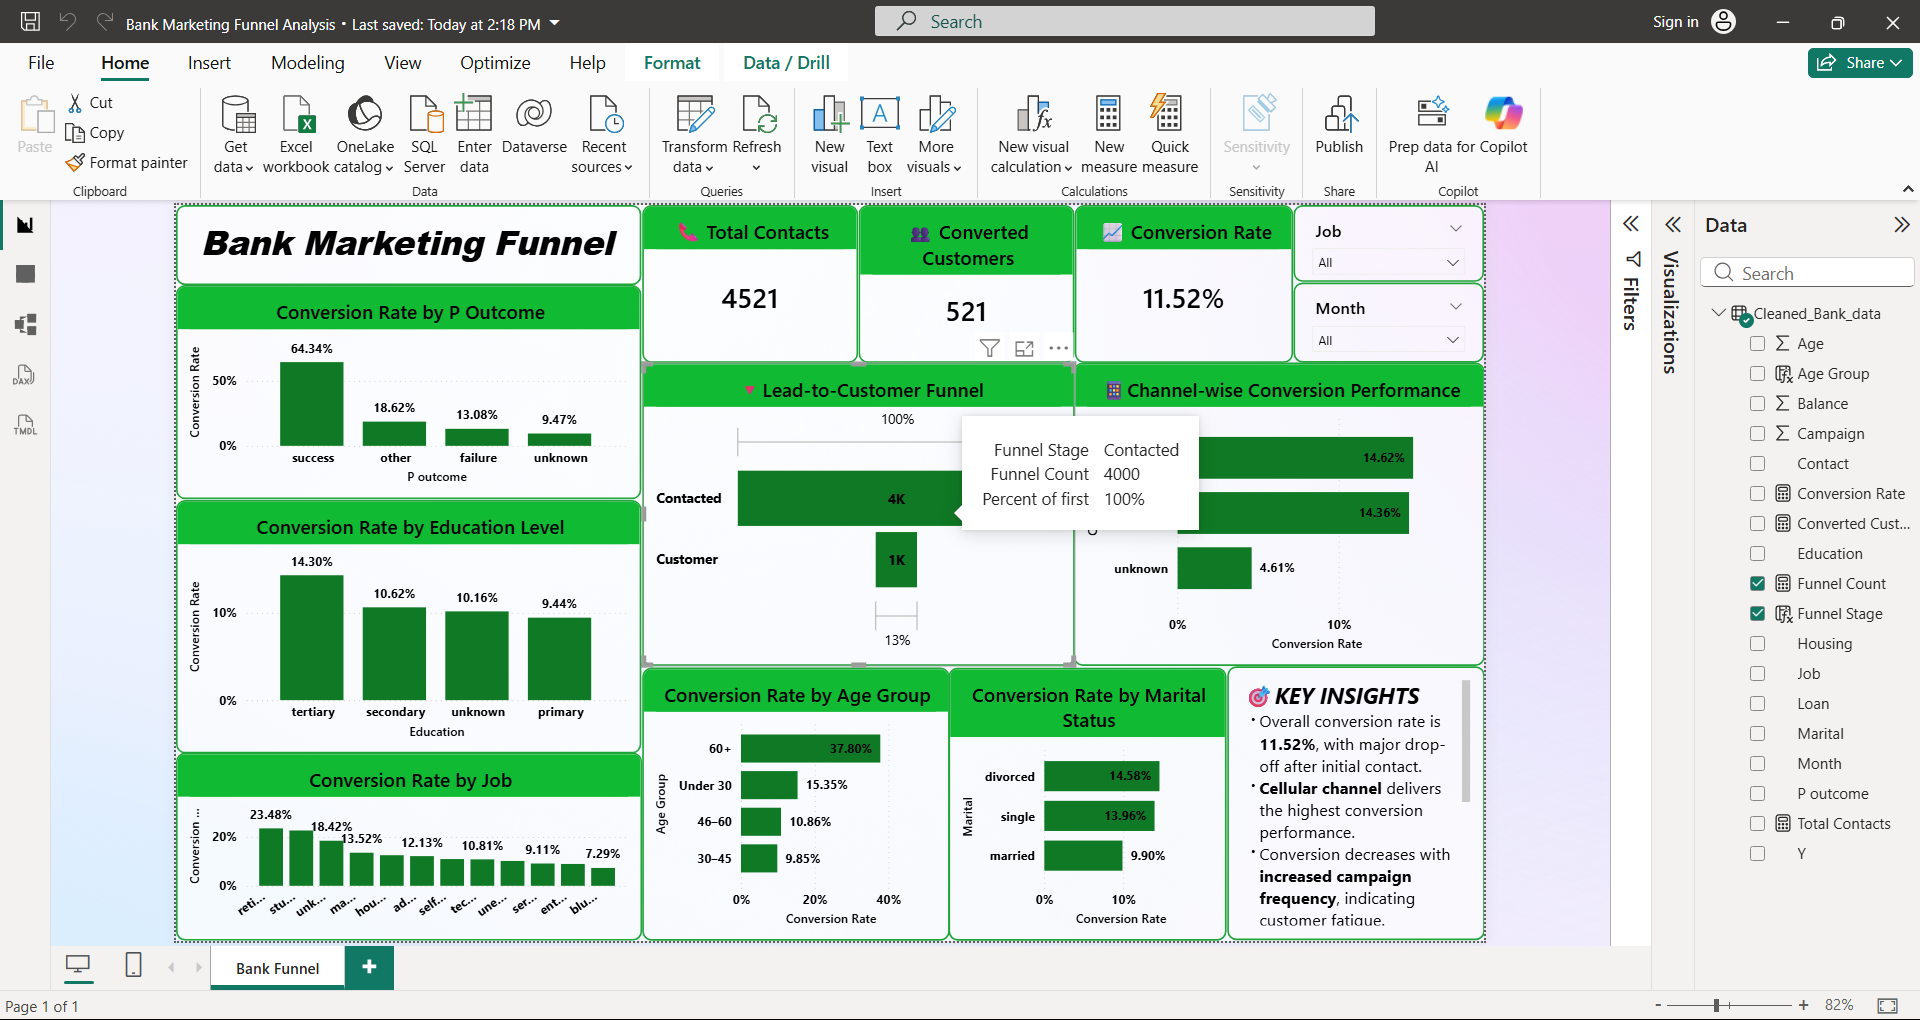

The page's visual inventory and layout, read from the dashboard file:
{"tool":"powerbi","page":{"name":"Page 1","canvas":[1280,720],"ordinal":0},"visuals":[{"type":"card","title":"Total Contacts","fields":{"Values":["Cleaned_Bank_data.Total Contacts"]},"box":[455.6,0,211.3,153.7],"z":0},{"type":"card","title":"Converted Customers","fields":{"Values":["Cleaned_Bank_data.Total Customers"]},"box":[666.9,0,219.6,153.7],"z":1000},{"type":"card","title":"Conversion Rate","fields":{"Values":["Cleaned_Bank_data.Conversion Rate"]},"box":[886.6,0,210.3,154.1],"z":2000},{"type":"funnel","title":"Lead-to-Customer Funnel","fields":{"Y":["Cleaned_Bank_data.Funnel Count"],"Category":["Cleaned_Bank_data.Funnel Stage"]},"box":[455.6,153.7,413,299.1],"z":3000},{"type":"clusteredBarChart","title":"Channel-wise Conversion Performance","fields":{"Category":["Cleaned_Bank_data.Contact"],"Y":["Cleaned_Bank_data.Conversion Rate"]},"box":[868.6,153.7,411.7,299.1],"z":4000},{"type":"slicer","fields":{"Values":["Cleaned_Bank_data.Month"]},"box":[1093.7,75.5,186.6,78.2],"z":5000},{"type":"slicer","fields":{"Values":["Cleaned_Bank_data.Job"]},"box":[1093.7,0,186.6,75.5],"z":6000},{"type":"clusteredBarChart","title":"Conversion Rate by Marital Status","fields":{"Category":["Cleaned_Bank_data.Marital"],"Y":["Cleaned_Bank_data.Conversion Rate"]},"box":[756.1,452.8,271.7,267.6],"z":7000},{"type":"clusteredColumnChart","title":"Conversion Rate by Education Level","fields":{"Category":["Cleaned_Bank_data.Education"],"Y":["Cleaned_Bank_data.Conversion Rate"]},"box":[0,288.2,455.6,248.4],"z":8000},{"type":"clusteredBarChart","fields":{"Category":["Cleaned_Bank_data.Age Group"],"Y":["Cleaned_Bank_data.Conversion Rate"]},"box":[455.6,452.8,300.5,267.6],"z":9000},{"type":"clusteredColumnChart","title":"Conversion Rate by P Outcome","fields":{"Y":["Cleaned_Bank_data.Conversion Rate"],"Category":["Cleaned_Bank_data.P out Come"]},"box":[0,78.2,455.6,209.9],"z":10000},{"type":"textbox","title":"Bank Marketing Funnel","box":[0,0,455.6,78.2],"z":11000},{"type":"clusteredColumnChart","fields":{"Category":["Cleaned_Bank_data.Job"],"Y":["Cleaned_Bank_data.Conversion Rate"]},"box":[0,536,456,184],"z":12000},{"type":"textbox","box":[1028.4,451.2,251.9,267.8],"z":13000}]}

Visuals, with their boxes on the page's 1280x720 design canvas (x1, y1, x2, y2). These are canvas units, not pixel positions in the 1920x1020 screenshot, which may show the page scaled, cropped or inside an application window:
"Total Contacts" card: (left=456, top=0, right=667, bottom=154)
"Converted Customers" card: (left=667, top=0, right=886, bottom=154)
"Conversion Rate" card: (left=887, top=0, right=1097, bottom=154)
"Lead-to-Customer Funnel" funnel: (left=456, top=154, right=869, bottom=453)
"Channel-wise Conversion Performance" clusteredBarChart: (left=869, top=154, right=1280, bottom=453)
slicer - Cleaned_Bank_data.Month: (left=1094, top=76, right=1280, bottom=154)
slicer - Cleaned_Bank_data.Job: (left=1094, top=0, right=1280, bottom=76)
"Conversion Rate by Marital Status" clusteredBarChart: (left=756, top=453, right=1028, bottom=720)
"Conversion Rate by Education Level" clusteredColumnChart: (left=0, top=288, right=456, bottom=537)
clusteredBarChart - Cleaned_Bank_data.Age Group x Cleaned_Bank_data.Conversion Rate: (left=456, top=453, right=756, bottom=720)
"Conversion Rate by P Outcome" clusteredColumnChart: (left=0, top=78, right=456, bottom=288)
"Bank Marketing Funnel" textbox: (left=0, top=0, right=456, bottom=78)
clusteredColumnChart - Cleaned_Bank_data.Job x Cleaned_Bank_data.Conversion Rate: (left=0, top=536, right=456, bottom=720)
textbox: (left=1028, top=451, right=1280, bottom=719)
